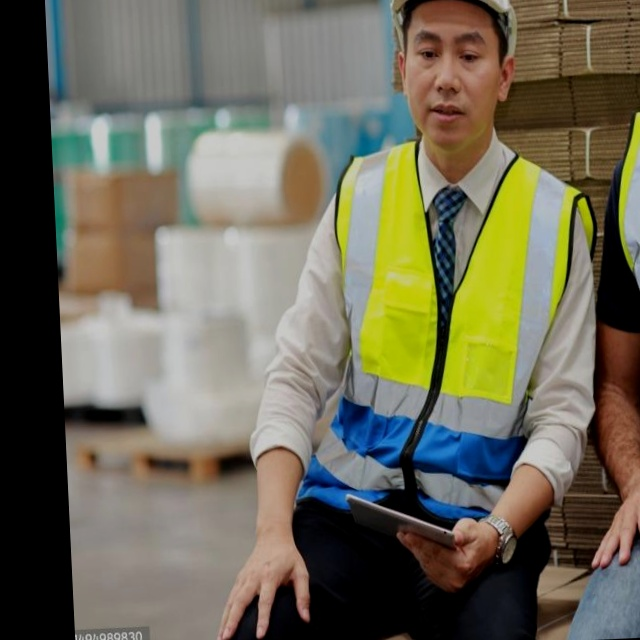Con_Casco: (384, 0, 524, 155)
Con_Chaleco: (322, 130, 597, 540)
